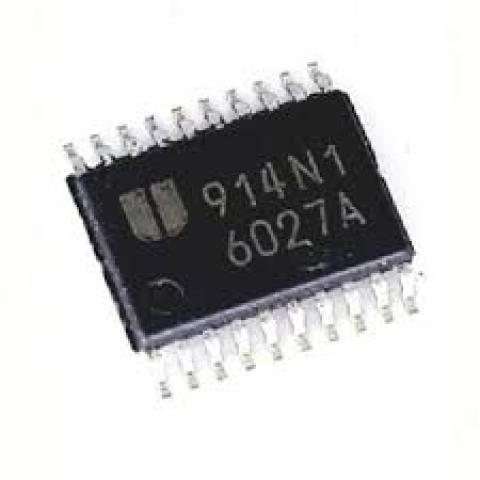IC: (54, 83, 428, 388)
